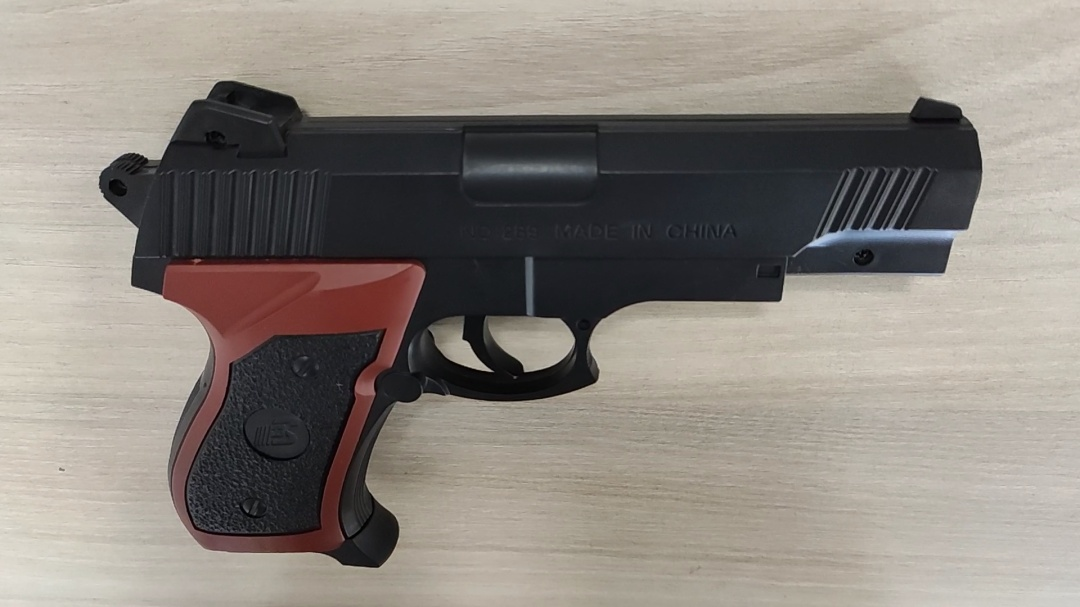gun: (497, 155, 684, 269)
